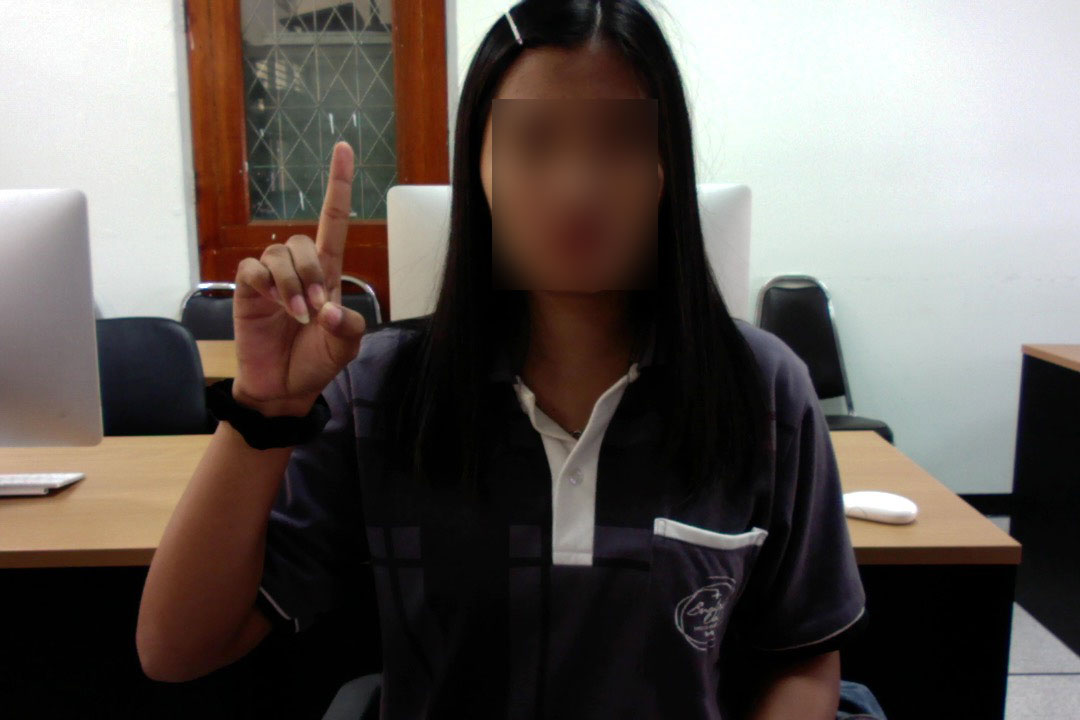dor: (206, 134, 378, 418)
